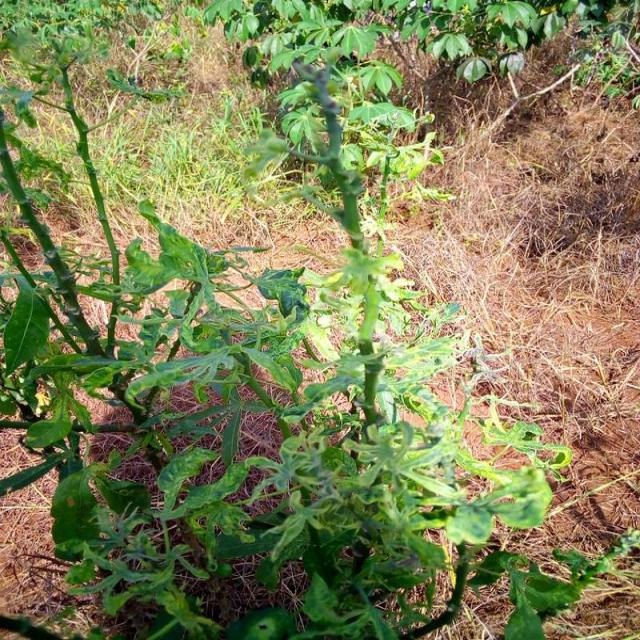cassava leaf: (2, 286, 50, 376)
